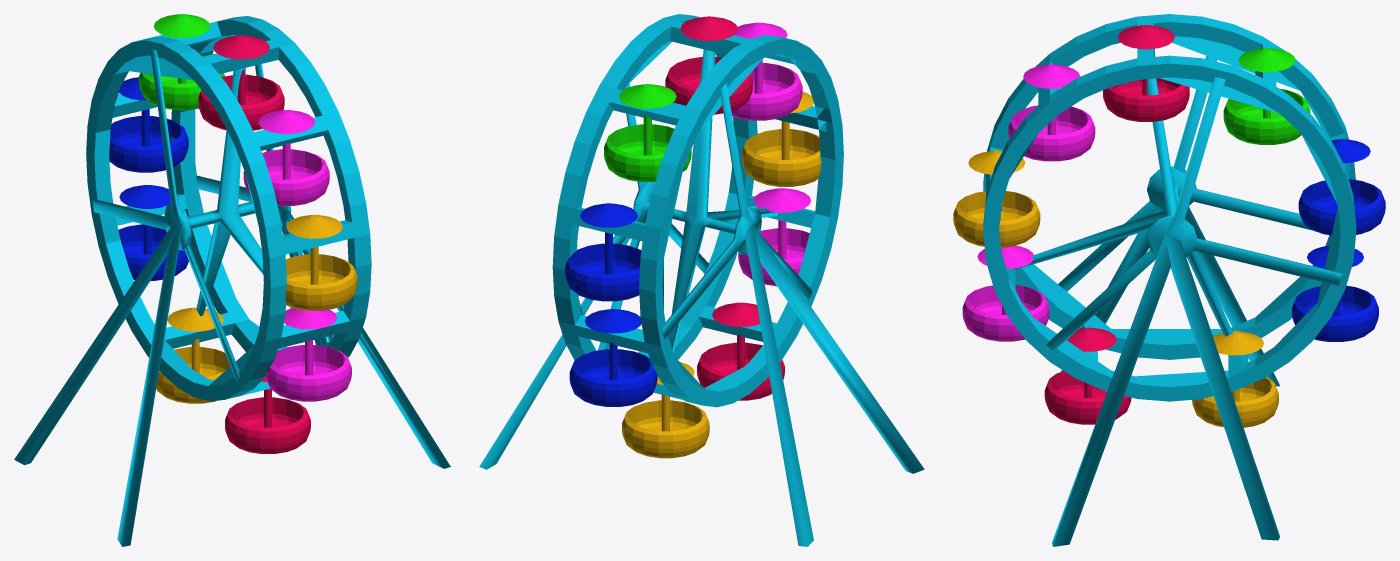
The model's file is FerrisWheel.fbx.
3 views of the same model, side by side, from view 1: azimuth 30°, elevation 25°; view 2: azimuth 150°, elevation 25°; view 3: azimuth 270°, elevation 25° (orthographic).
Parts seen in each view (by area): view 1: Circle; view 2: Circle; view 3: Circle.
Boxes of the visible parts, x1,y1,x2,y2 form: Circle: (14, 14, 450, 546); Circle: (479, 14, 924, 546); Circle: (953, 14, 1385, 546).
Bounding box in the file's own units: 383 × 486 × 433.
